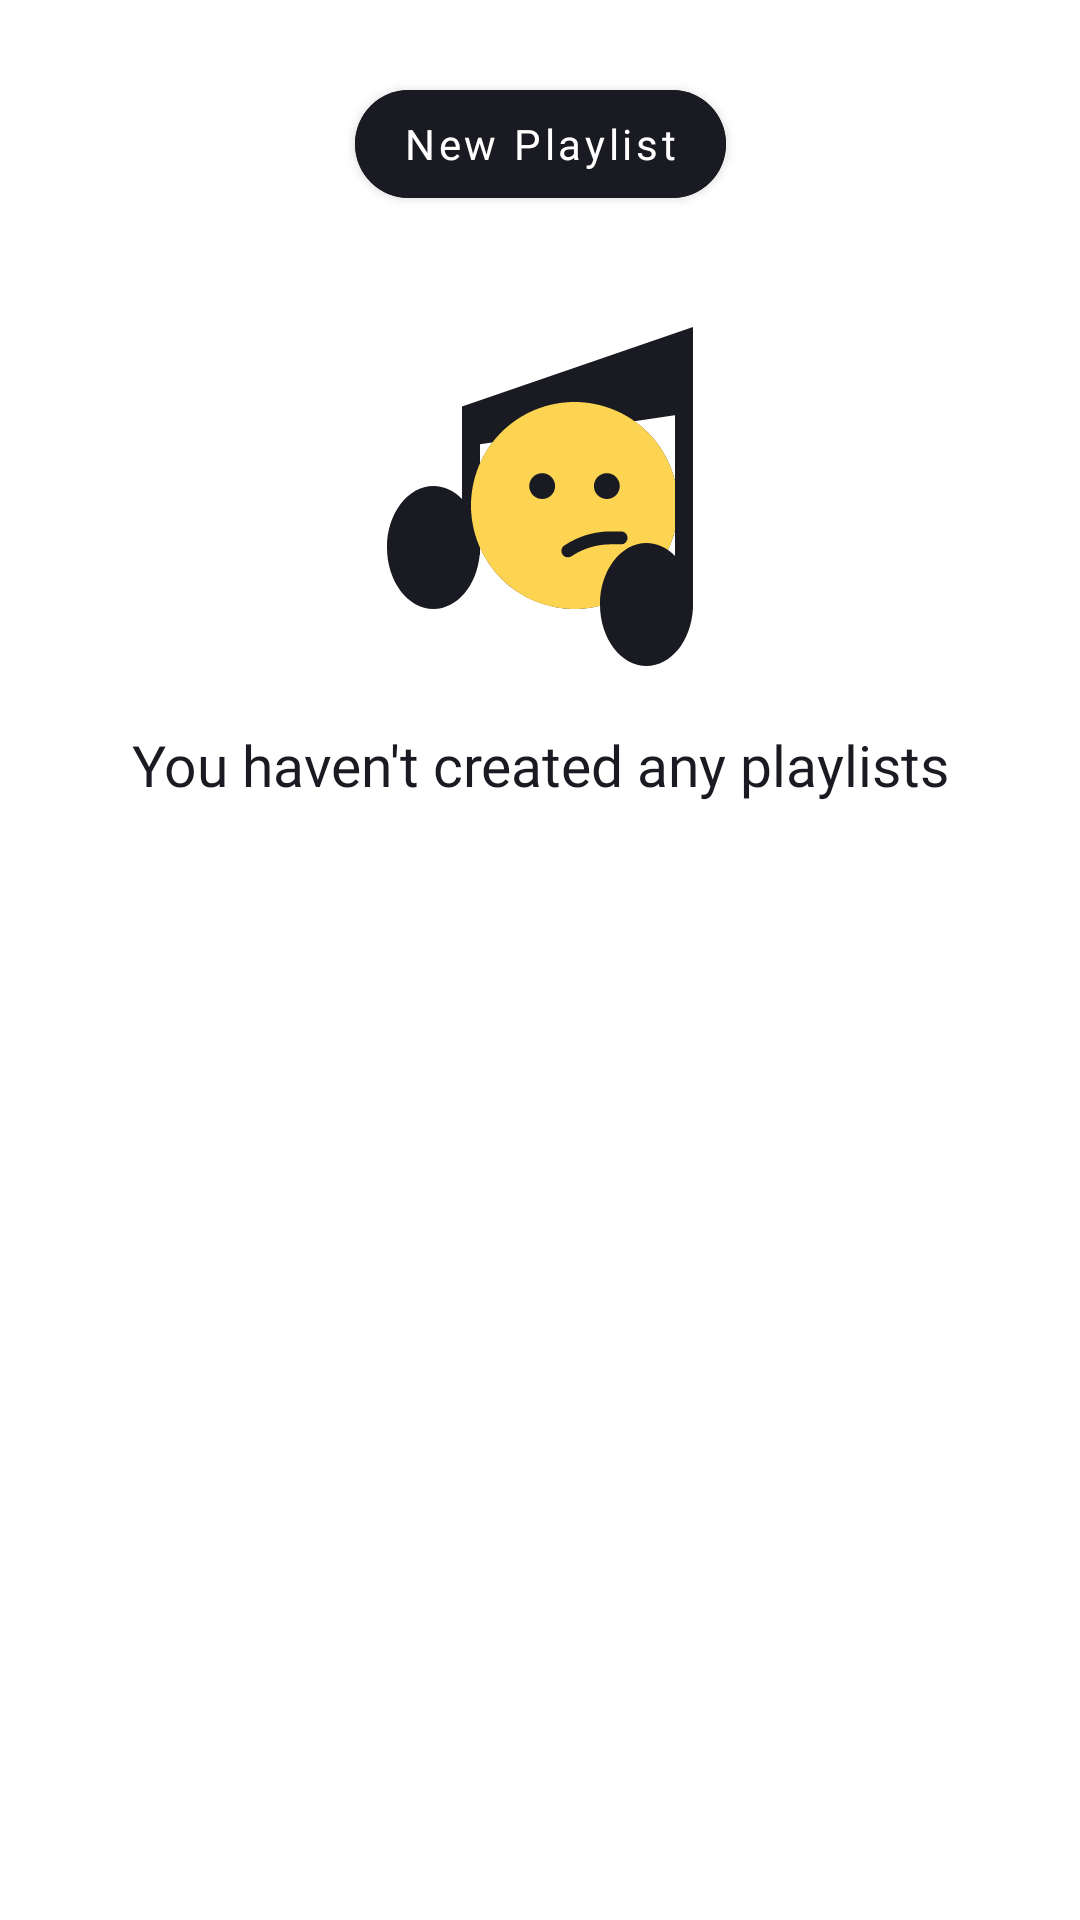

Screen size 1080x1920. Icon name, then its box in pixels as (x1, y1, x2, y2):
nothing found: (387, 327, 693, 666)
